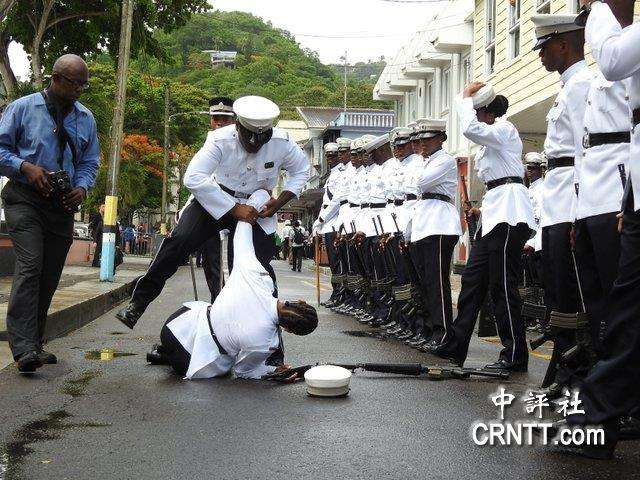fall: (151, 185, 334, 390)
